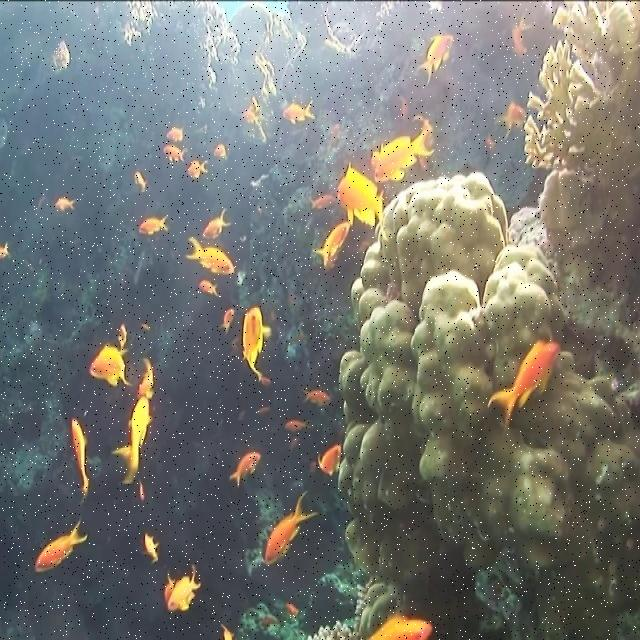fish: (487, 340, 560, 427), (370, 114, 436, 182), (265, 491, 321, 565), (110, 395, 153, 484), (336, 162, 384, 227), (89, 323, 134, 387), (34, 518, 88, 571), (242, 306, 272, 383), (183, 236, 235, 275), (416, 34, 453, 85), (312, 221, 350, 266), (368, 614, 432, 639), (71, 418, 89, 506), (168, 565, 201, 611), (229, 451, 262, 489), (494, 103, 527, 138), (513, 15, 534, 60), (203, 207, 232, 239), (284, 99, 316, 125), (317, 444, 341, 476), (138, 358, 155, 398), (138, 214, 169, 233), (302, 389, 331, 405), (164, 570, 176, 607), (163, 145, 189, 162), (219, 308, 235, 335), (187, 160, 209, 179), (146, 535, 160, 562), (312, 193, 337, 208), (198, 280, 220, 297), (53, 197, 77, 211), (136, 171, 149, 192), (284, 419, 306, 431), (165, 128, 183, 142), (213, 145, 228, 158), (0, 242, 11, 258)
reefs: (336, 171, 638, 636), (526, 2, 639, 221)
